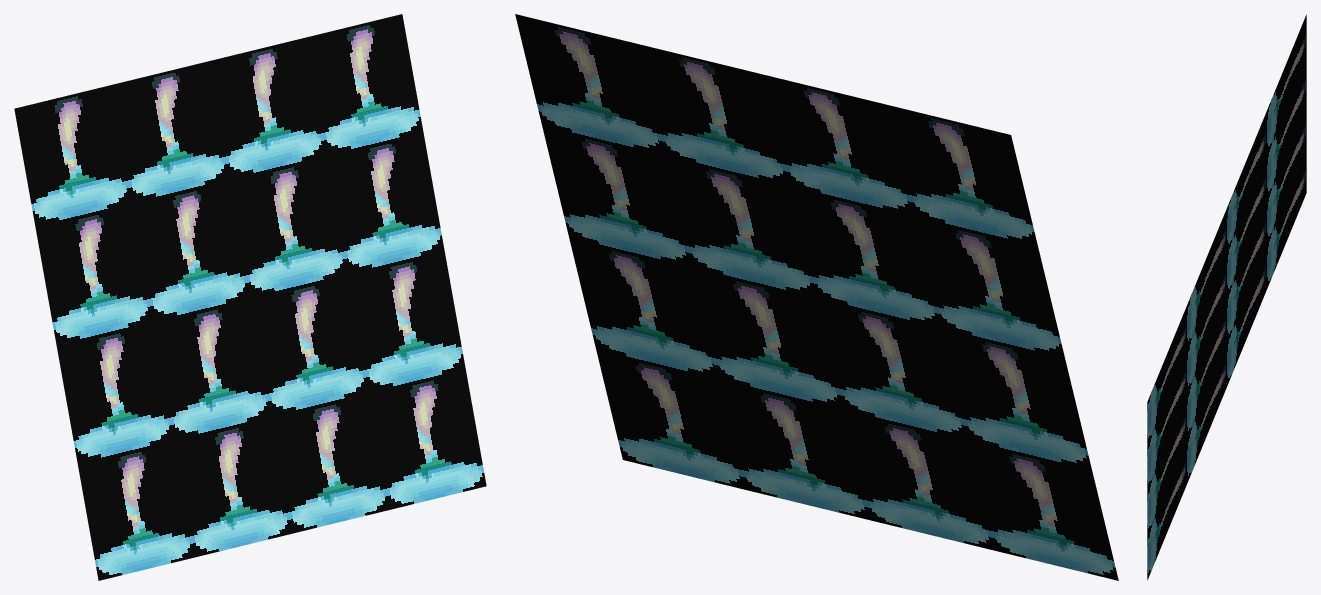
File: 0512kinoko_c03.gltf
3 views of the same model, side by side, from view 1: azimuth 30°, elevation 25°; view 2: azimuth 150°, elevation 25°; view 3: azimuth 270°, elevation 25° (orthographic). The views are drawn at different scales.
Parts seen in each view (by area): view 1: 0512kinoko_c03; view 2: 0512kinoko_c03; view 3: 0512kinoko_c03.
Boxes of the visible parts, x1=… form: 0512kinoko_c03: x1=14, y1=14, x2=486, y2=580; 0512kinoko_c03: x1=515, y1=14, x2=1118, y2=580; 0512kinoko_c03: x1=1147, y1=14, x2=1306, y2=580.
Bounding box in the file's own units: 0.7314 × 0.7395 × 0.2751.
Materials: 1 (1 with a texture image).
